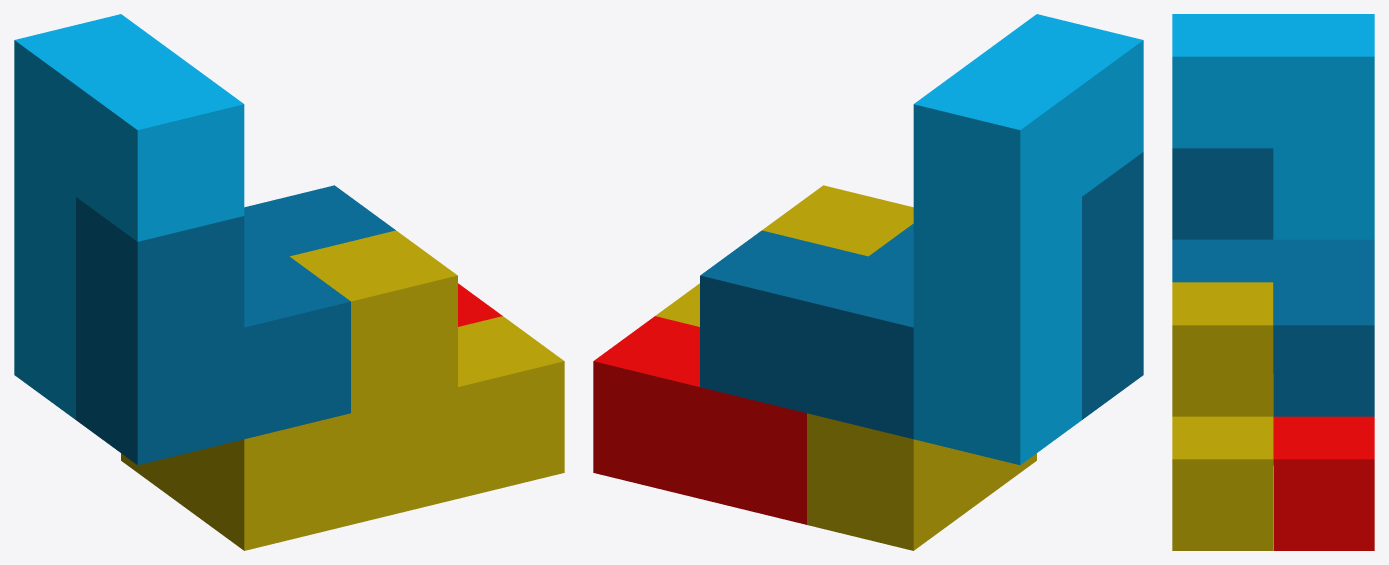
3 views of the same model, side by side, from view 1: azimuth 30°, elevation 25°; view 2: azimuth 150°, elevation 25°; view 3: azimuth 270°, elevation 25° (orthographic). The views are drawn at different scales.
Parts seen in each view (by area): view 1: mergedBlocks(Clone); view 2: mergedBlocks(Clone); view 3: mergedBlocks(Clone).
Boxes of the visible parts, x1,y1,x2,y2 form: mergedBlocks(Clone): (14, 14, 564, 550); mergedBlocks(Clone): (593, 14, 1143, 550); mergedBlocks(Clone): (1172, 14, 1374, 550).
Bounding box in the file's own units: 4 × 4 × 2.
Materials: 4 (4 with a texture image).
